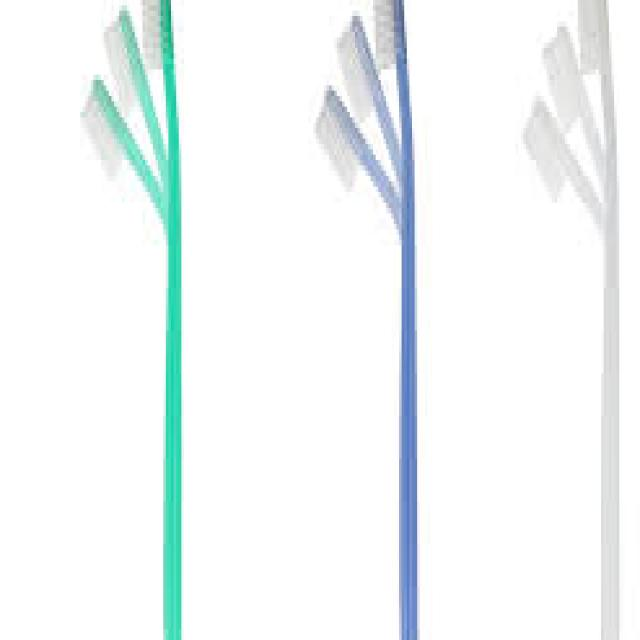organic: (54, 9, 231, 639), (271, 6, 441, 632), (484, 5, 631, 632)
